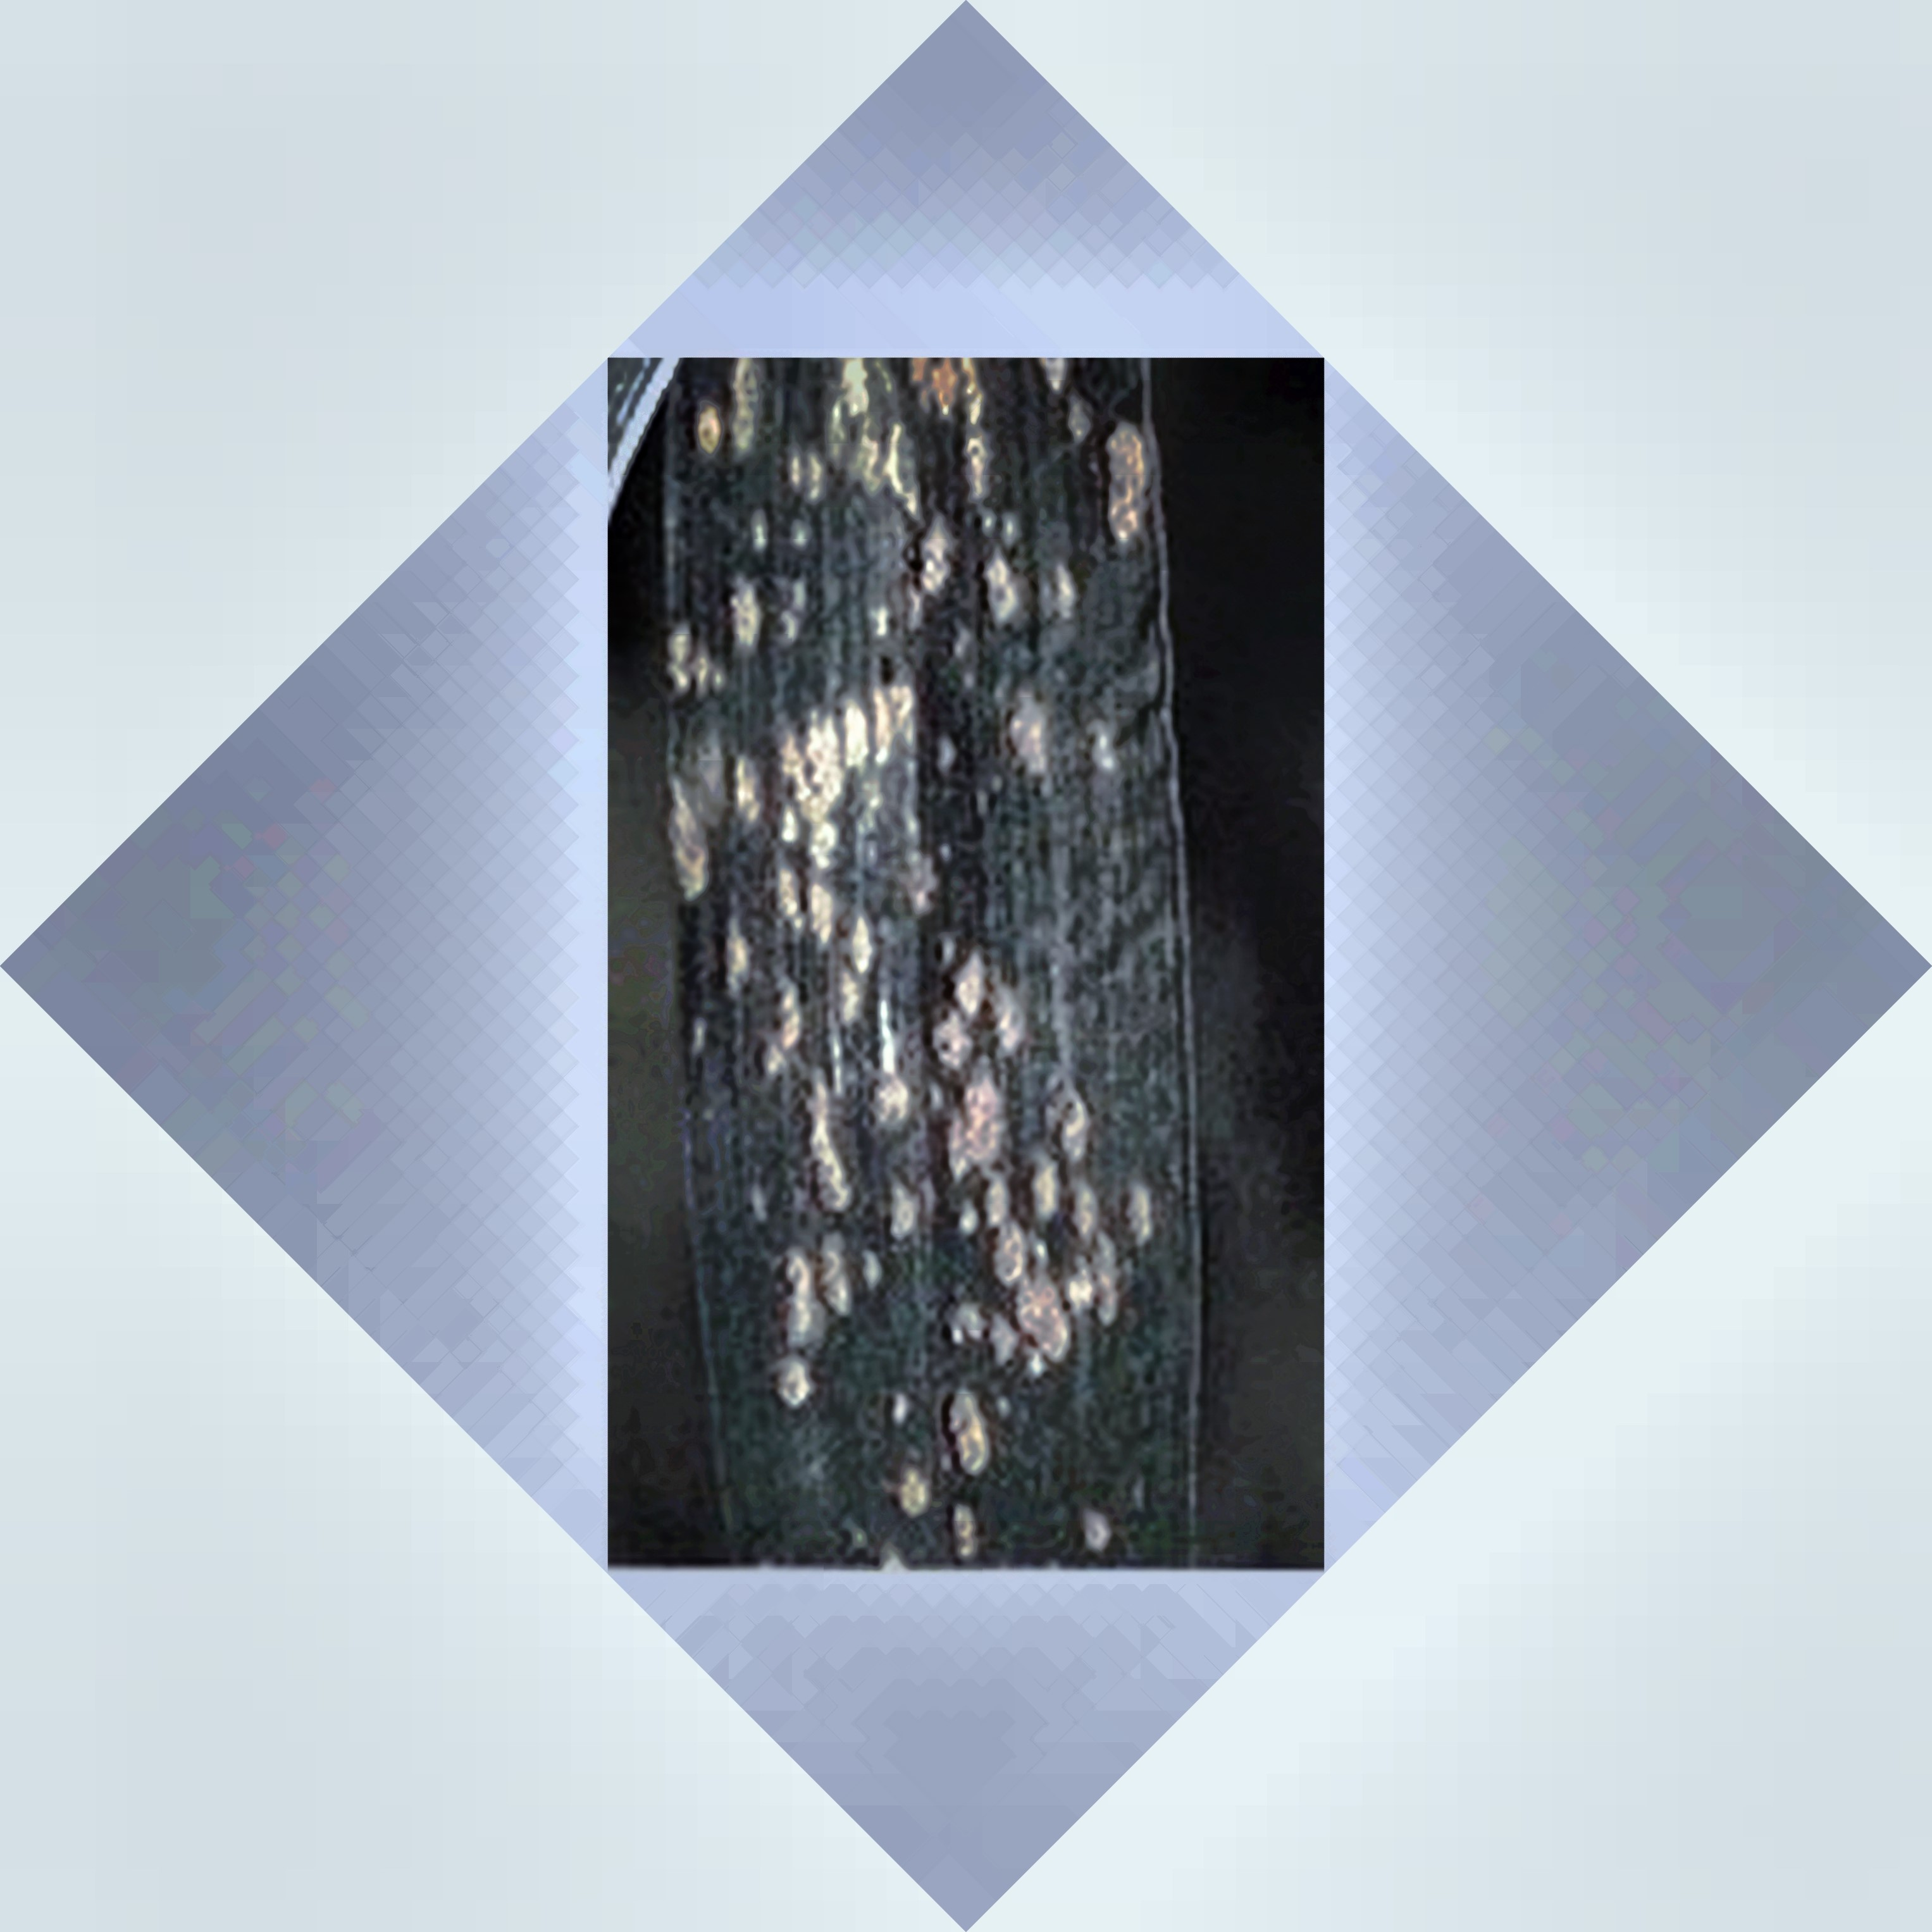Powdery Mildew: (656, 575, 1233, 1470)
